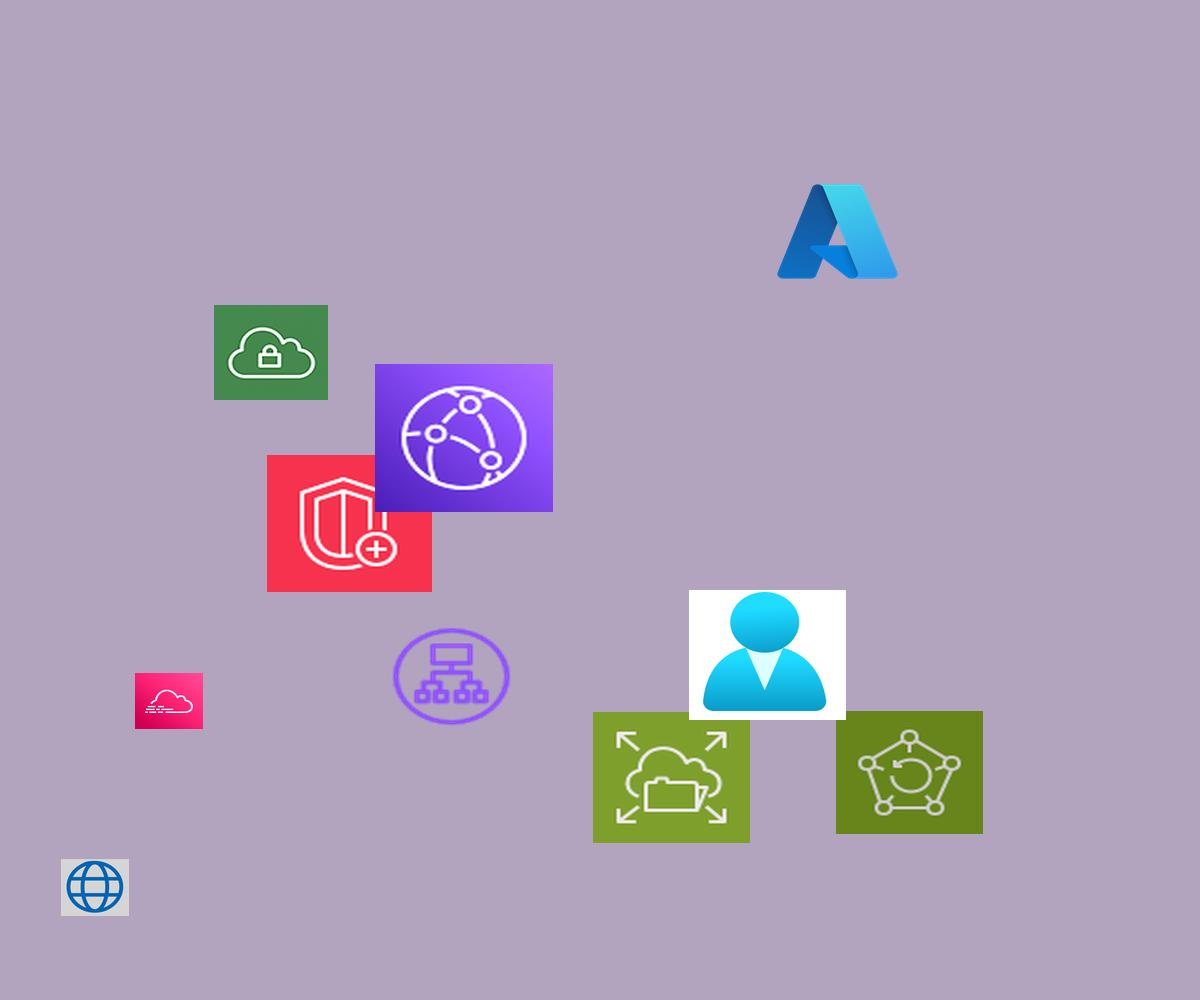AWS-Backup: (836, 711, 983, 834)
AWS-CloudFront: (375, 364, 553, 512)
AWS-CloudTrail: (135, 673, 203, 729)
AWS-EFS: (593, 712, 750, 843)
AWS-Private_vpc: (214, 305, 328, 400)
AWS-Res_Elastic-Load-Balancing_Application-Load-Balancer: (388, 624, 515, 729)
AWS-Shield: (267, 455, 432, 592)
Azure_http: (61, 859, 129, 916)
Azure_services: (772, 177, 903, 286)
Azure_users: (689, 590, 846, 720)
